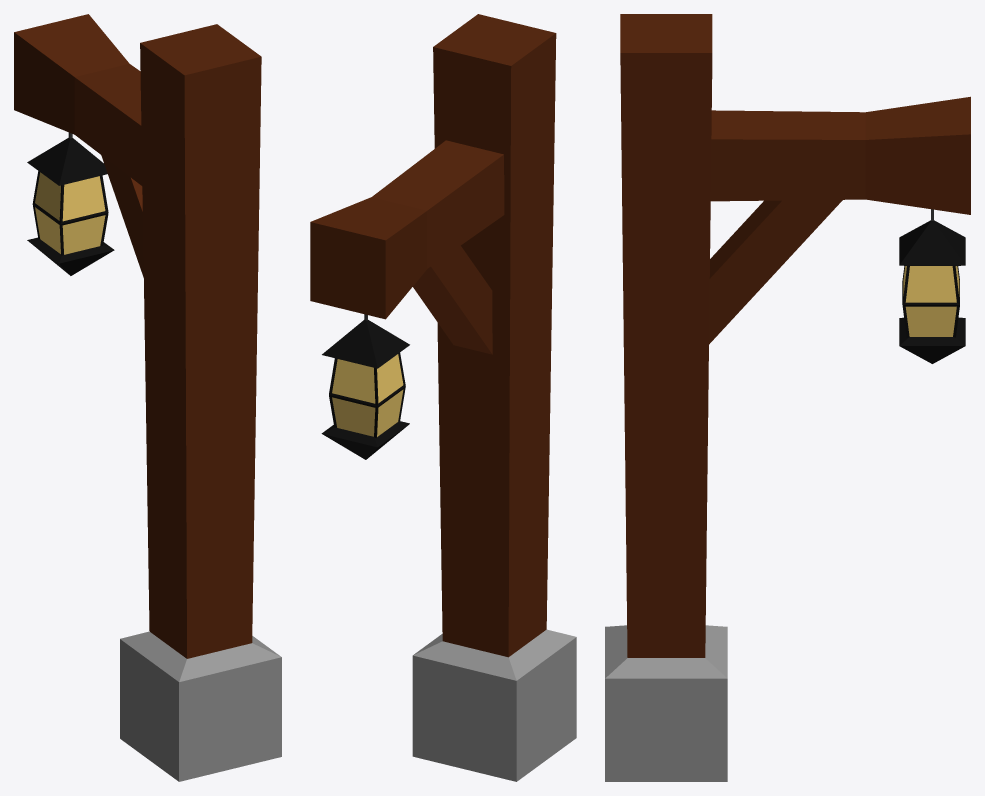
The model's file is lantern.FBX.
3 views of the same model, side by side, from view 1: azimuth 30°, elevation 25°; view 2: azimuth 150°, elevation 25°; view 3: azimuth 270°, elevation 25° (orthographic). The views are drawn at different scales.
Parts seen in each view (by area): view 1: Lanterne; view 2: Lanterne; view 3: Lanterne.
Boxes of the visible parts, x1,y1,x2,y2 form: Lanterne: [14, 14, 281, 781]; Lanterne: [310, 14, 576, 781]; Lanterne: [605, 14, 970, 781].
Bounding box in the file's own units: 73.6 × 478 × 219.
